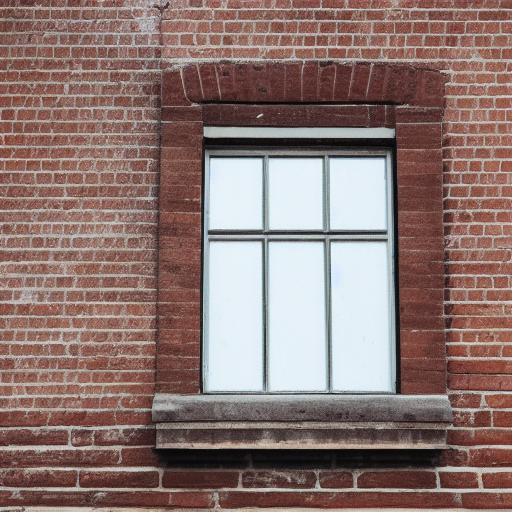Window: (149, 58, 458, 454)
